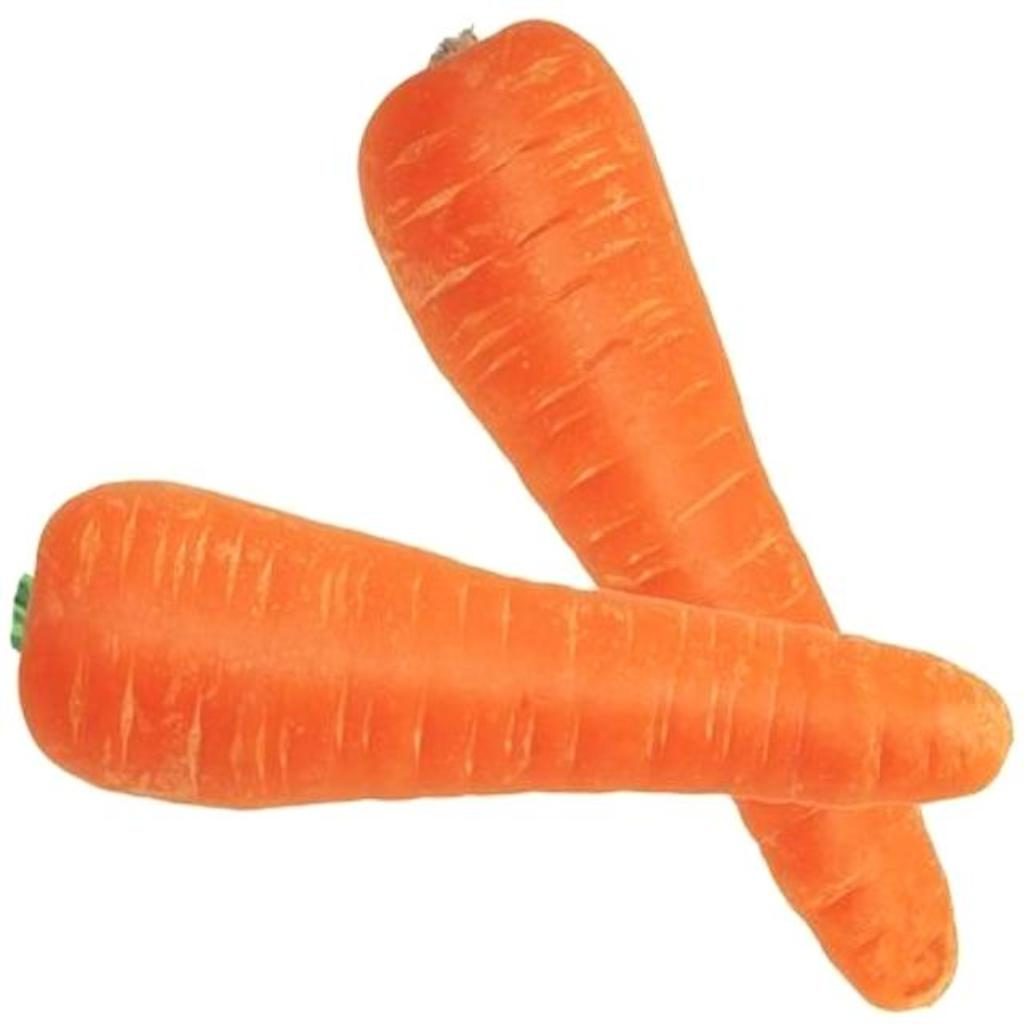carrot: (360, 22, 962, 1014), (20, 482, 1010, 806)
